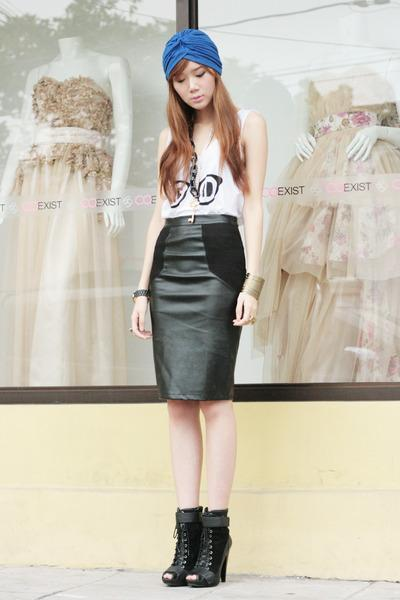hat: (163, 28, 222, 83)
shirt: (177, 140, 238, 221)
shoe: (162, 506, 231, 587)
skirt: (134, 215, 248, 414)
